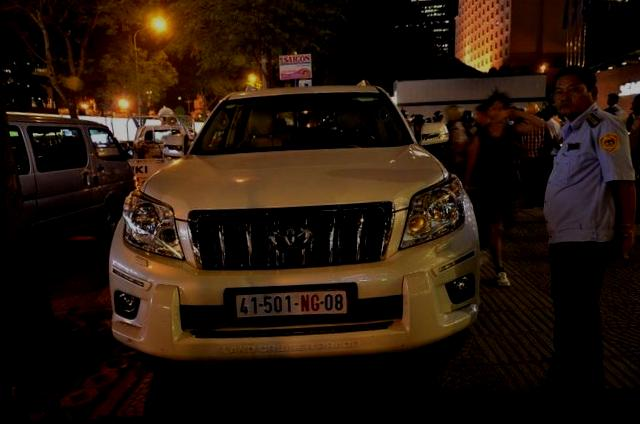License_Plate: (232, 288, 350, 324)
